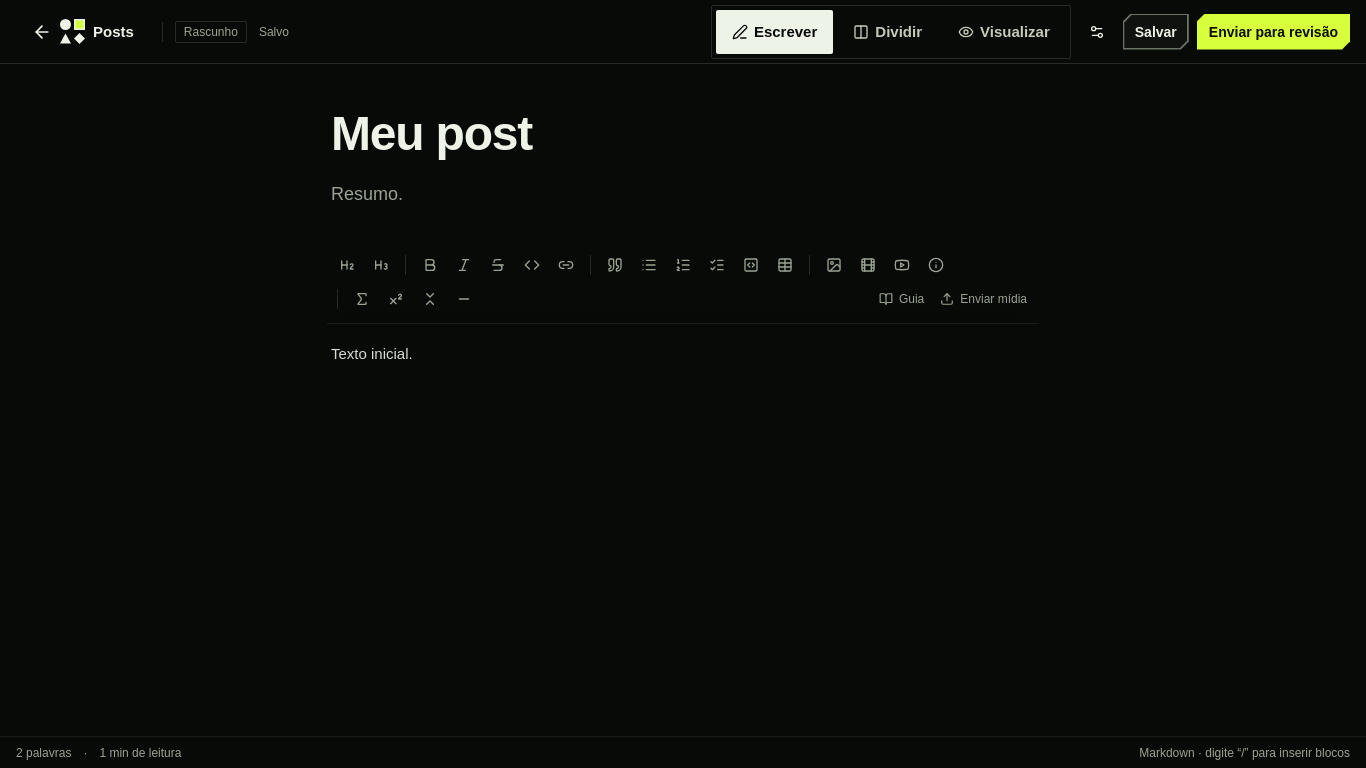
Test: botões conforme o papel › colaborador envia para revisão e depois vê o aviso de revisão
The width and height of the screenshot is (1366, 768).
Expected: the button "Publicar" is not shown
Click the button "Enviar para revisão". click: [1273, 32]
box: [1197,14,1350,50]
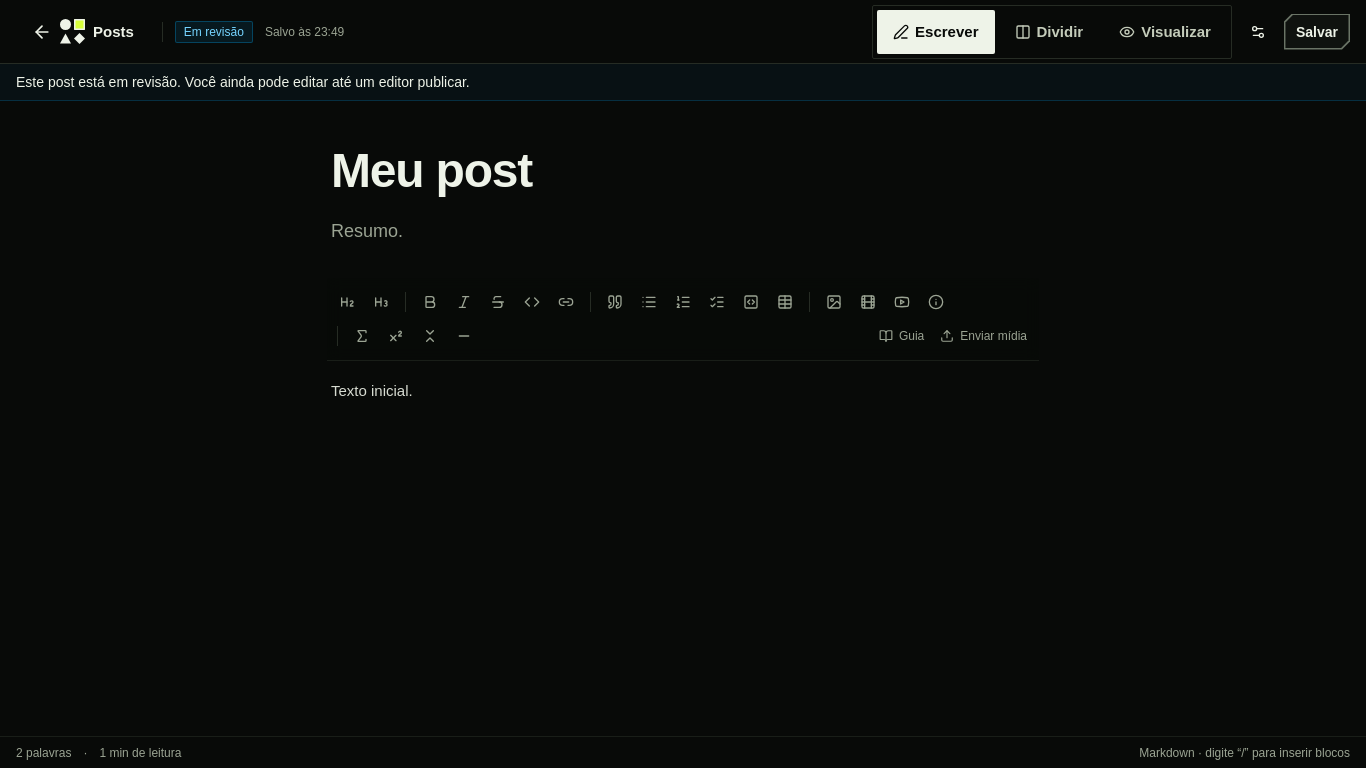
Result: the text "Este post está em revisão" is shown at [16,74,470,90]
Result: the button "Enviar para revisão" is gone
